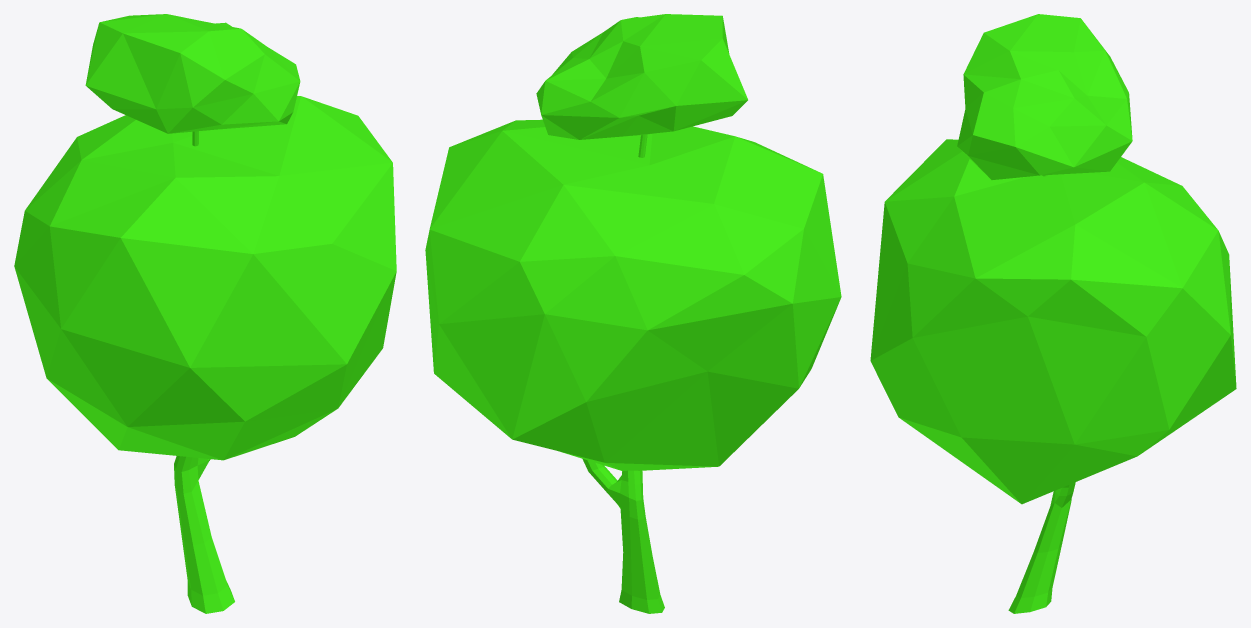
File: bush_2.gltf
3 renders of one model, left to right at view 1: azimuth 30°, elevation 25°; view 2: azimuth 150°, elevation 25°; view 3: azimuth 270°, elevation 25°, orthographic. The views are drawn at different scales.
Parts seen in each view (by area): view 1: Bush_2; view 2: Bush_2; view 3: Bush_2.
Part boxes in pixels (x1,y1,x2,y2): Bush_2: (14, 14, 396, 613); Bush_2: (425, 14, 841, 613); Bush_2: (870, 14, 1236, 613).
Bounding box in the file's own units: 155 × 254 × 151.
